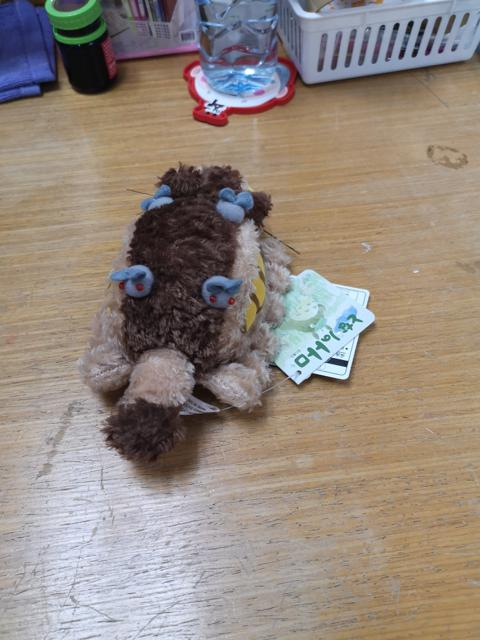nekobus: (74, 158, 305, 475)
